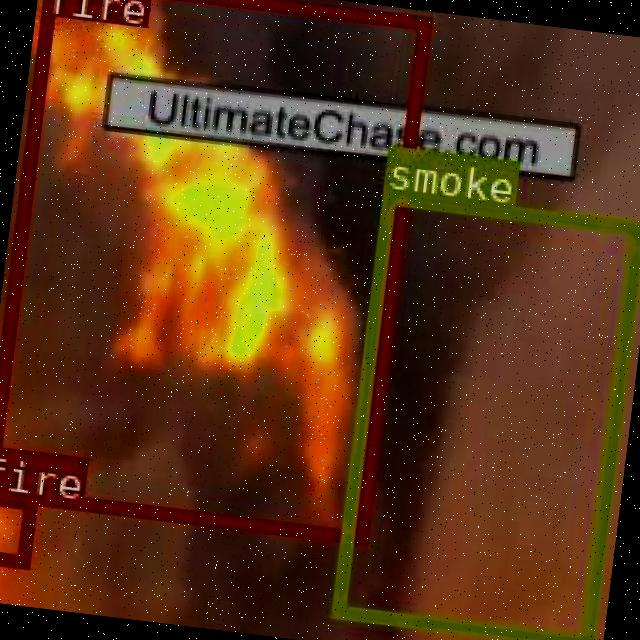fire: (0, 0, 428, 541), (0, 486, 32, 565)
smoke: (330, 188, 640, 640)
